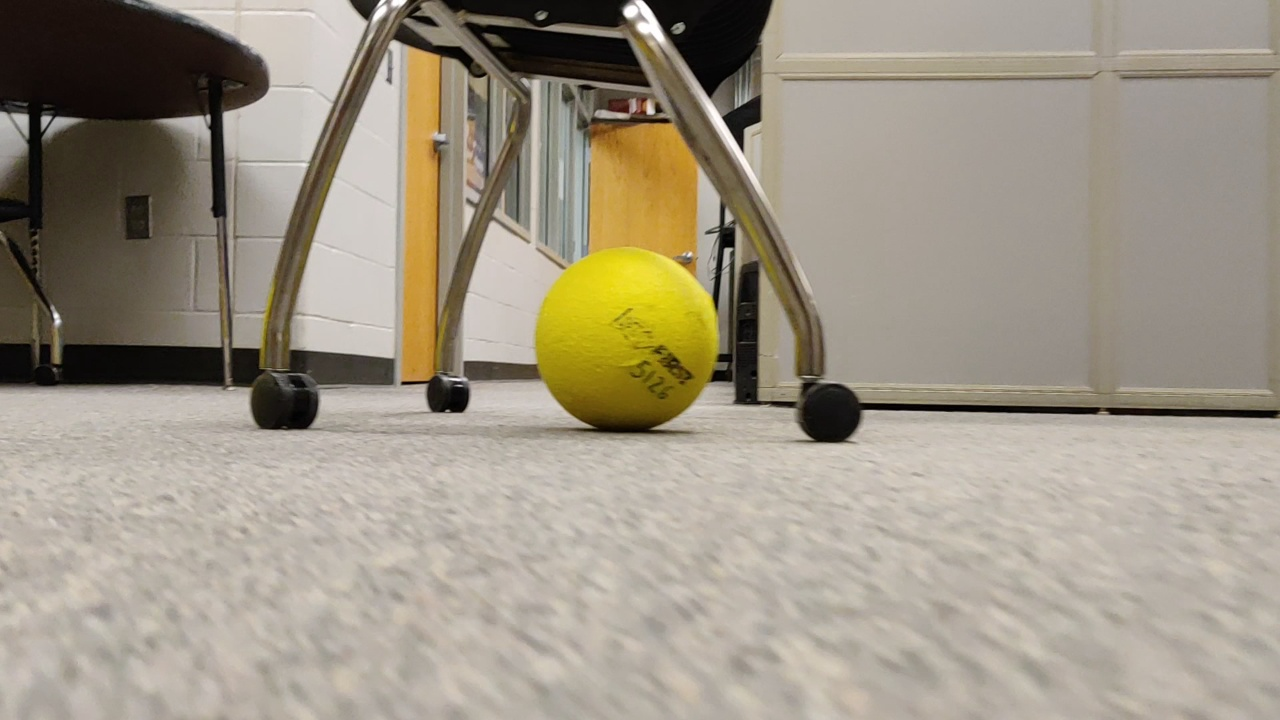Ball: (534, 249, 723, 444)
